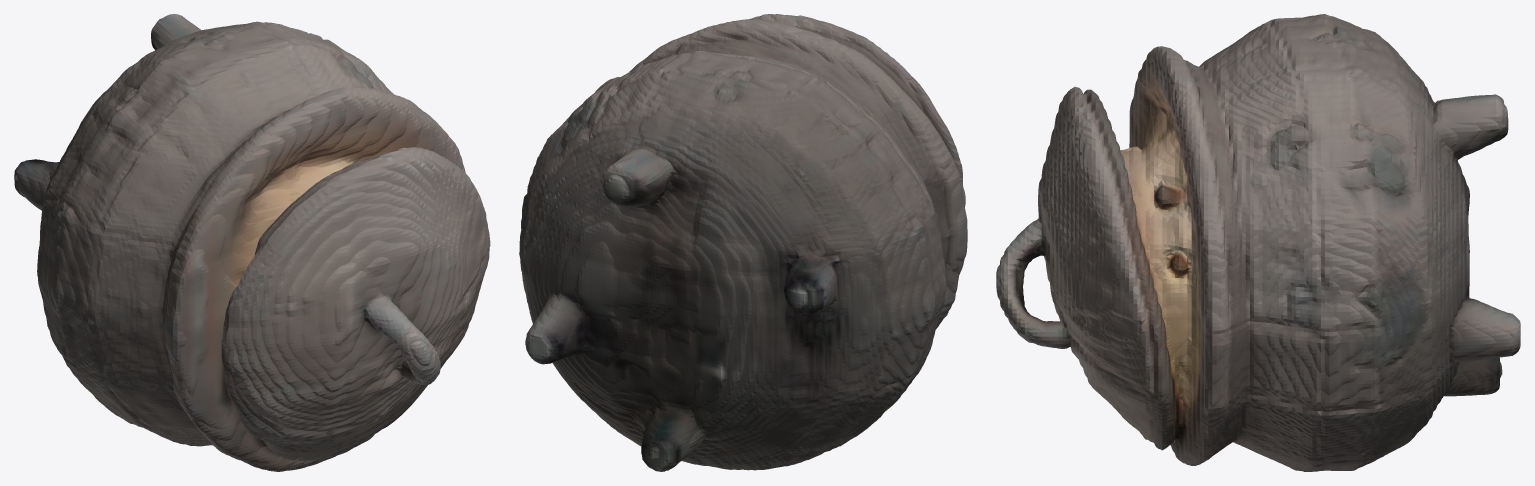
The model's file is enemy_broodpot_triposr.glb.
The picture shows the model from 3 angles, left to right: view 1: azimuth 30°, elevation 25°; view 2: azimuth 150°, elevation 25°; view 3: azimuth 270°, elevation 25°; orthographic projection. The views are drawn at different scales.
Visible parts, largest first — view 1: geometry_0; view 2: geometry_0; view 3: geometry_0.
Part boxes in pixels (x1,y1,x2,y2): geometry_0: [14, 14, 490, 471]; geometry_0: [519, 14, 967, 471]; geometry_0: [996, 14, 1520, 471].
Bounding box in the file's own units: 0.757 × 0.732 × 0.8585.
